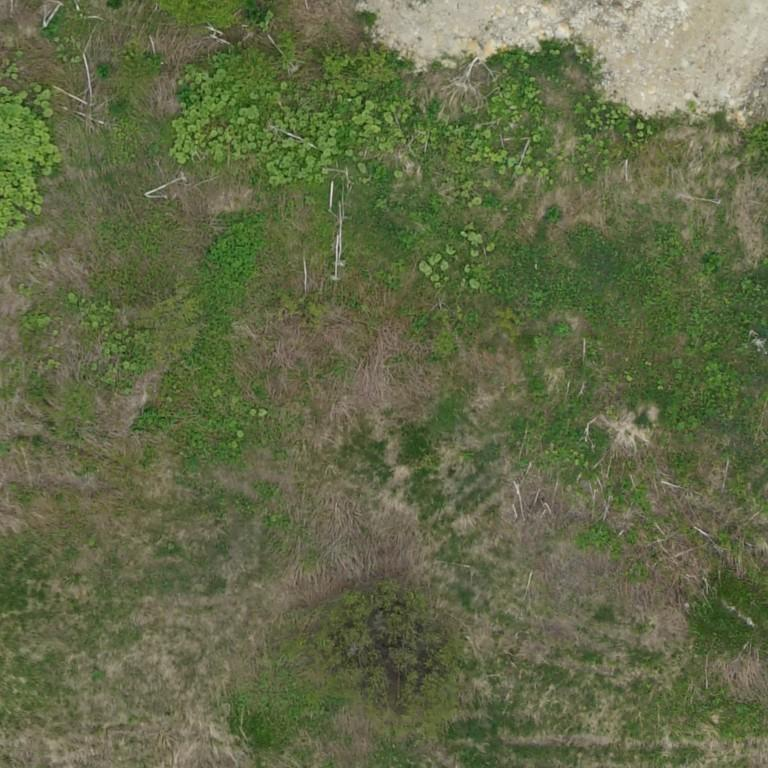hogweed: (208, 216, 264, 285), (544, 206, 561, 219)
